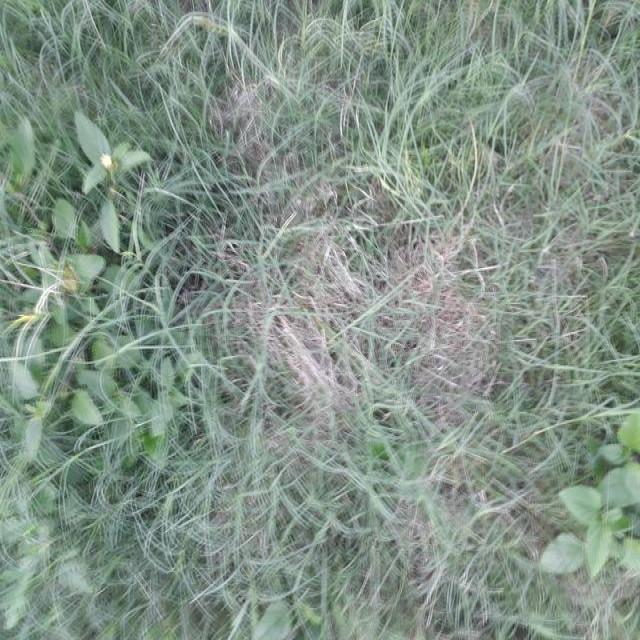weed: (0, 95, 174, 465), (533, 406, 640, 594)
